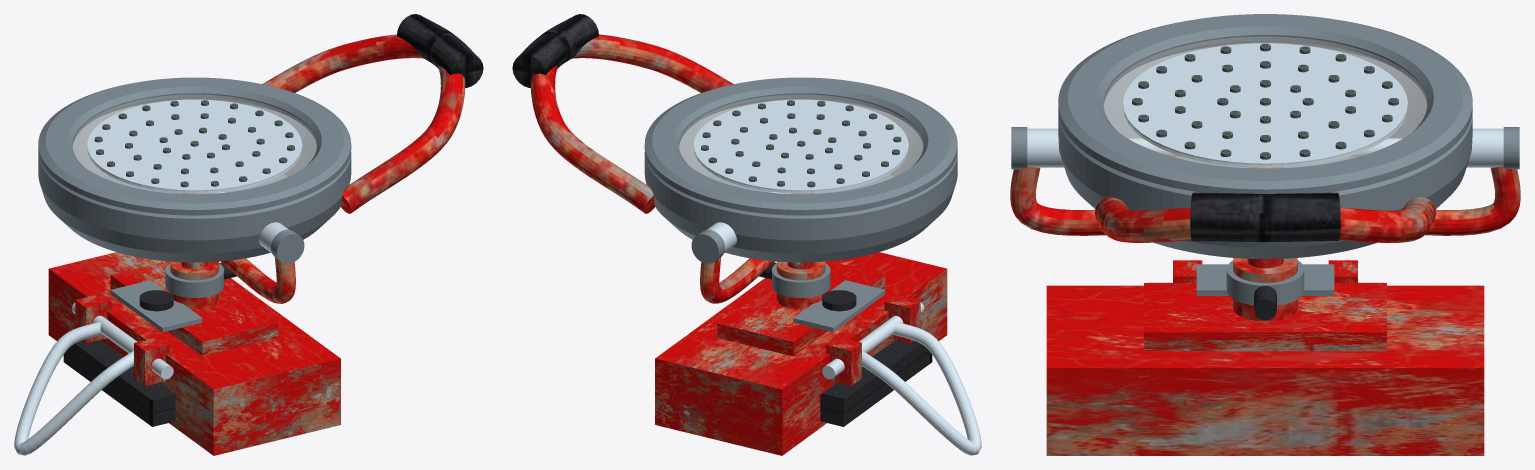
File: Equipment_LED_work_light__1001.glb
The picture shows the model from 3 angles, left to right: view 1: azimuth 30°, elevation 25°; view 2: azimuth 150°, elevation 25°; view 3: azimuth 270°, elevation 25°; orthographic projection. The views are drawn at different scales.
Parts seen in each view (by area): view 1: stand_frame::base_shell, light_head::ring_bezel, light_head::round_housing_shell, light_head::cob_carrier_disc, light_head::carry_handle, stand_frame::top_saddle, hanging_hook::folding_hook, stand_frame::rear_stand_foot, light_head::round_glass_panel, light_head::handle_grip, stand_frame::control_panel, inner_mast::yoke_arm_neg_y (+7 smaller); view 2: stand_frame::base_shell, light_head::ring_bezel, light_head::round_housing_shell, light_head::cob_carrier_disc, light_head::carry_handle, stand_frame::top_saddle, hanging_hook::folding_hook, stand_frame::rear_stand_foot, light_head::round_glass_panel, light_head::handle_grip, stand_frame::control_panel, inner_mast::yoke_arm_pos_y (+7 smaller); view 3: stand_frame::base_shell, light_head::ring_bezel, light_head::cob_carrier_disc, light_head::round_housing_shell, stand_frame::top_saddle, light_head::handle_grip, light_head::carry_handle, light_head::round_glass_panel, inner_mast::yoke_arm_neg_y, inner_mast::yoke_arm_pos_y, stand_frame::control_panel, stand_frame::outer_sleeve (+8 smaller).
Boxes of the visible parts, left/top/right/bottom form: stand_frame::base_shell: left=48, top=252, right=340, bottom=455; light_head::ring_bezel: left=38, top=77, right=351, bottom=215; light_head::round_housing_shell: left=38, top=99, right=351, bottom=262; light_head::cob_carrier_disc: left=87, top=99, right=302, bottom=193; light_head::carry_handle: left=262, top=34, right=465, bottom=213; stand_frame::top_saddle: left=110, top=261, right=278, bottom=356; hanging_hook::folding_hook: left=14, top=322, right=133, bottom=455; stand_frame::rear_stand_foot: left=63, top=340, right=175, bottom=426; light_head::round_glass_panel: left=73, top=94, right=316, bottom=193; light_head::handle_grip: left=397, top=14, right=483, bottom=87; stand_frame::control_panel: left=110, top=280, right=202, bottom=332; inner_mast::yoke_arm_neg_y: left=221, top=257, right=295, bottom=303; stand_frame::base_shell: left=655, top=252, right=947, bottom=455; light_head::ring_bezel: left=644, top=77, right=957, bottom=215; light_head::round_housing_shell: left=644, top=99, right=957, bottom=262; light_head::cob_carrier_disc: left=693, top=99, right=908, bottom=193; light_head::carry_handle: left=530, top=34, right=733, bottom=213; stand_frame::top_saddle: left=717, top=261, right=885, bottom=356; hanging_hook::folding_hook: left=862, top=322, right=981, bottom=455; stand_frame::rear_stand_foot: left=820, top=340, right=932, bottom=426; light_head::round_glass_panel: left=679, top=94, right=922, bottom=193; light_head::handle_grip: left=512, top=14, right=598, bottom=87; stand_frame::control_panel: left=793, top=280, right=885, bottom=332; inner_mast::yoke_arm_pos_y: left=700, top=257, right=774, bottom=303; stand_frame::base_shell: left=1046, top=285, right=1484, bottom=455; light_head::ring_bezel: left=1058, top=14, right=1472, bottom=193; light_head::cob_carrier_disc: left=1123, top=43, right=1407, bottom=167; light_head::round_housing_shell: left=1058, top=42, right=1472, bottom=258; stand_frame::top_saddle: left=1144, top=283, right=1386, bottom=351; light_head::handle_grip: left=1190, top=192, right=1340, bottom=241; light_head::carry_handle: left=1095, top=197, right=1435, bottom=242; light_head::round_glass_panel: left=1104, top=36, right=1426, bottom=168; inner_mast::yoke_arm_neg_y: left=1010, top=166, right=1105, bottom=235; inner_mast::yoke_arm_pos_y: left=1425, top=166, right=1520, bottom=235; stand_frame::control_panel: left=1196, top=264, right=1334, bottom=295; stand_frame::outer_sleeve: left=1233, top=258, right=1297, bottom=321.
Size of the model in its own units: 0.4184 by 0.2881 by 0.315.
Materials: 6 (3 with a texture image).
